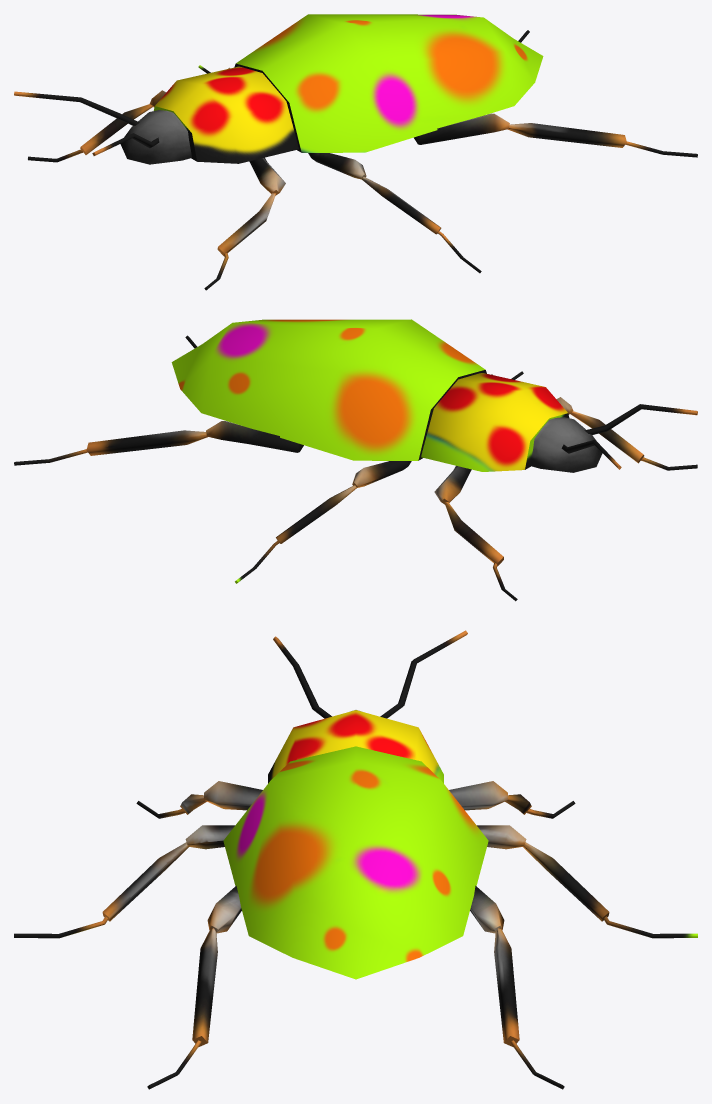
The picture shows the model from 3 angles, top to bottom: view 1: azimuth 30°, elevation 25°; view 2: azimuth 150°, elevation 25°; view 3: azimuth 270°, elevation 25°; orthographic projection. The views are drawn at different scales.
Parts seen in each view (by area): view 1: Bug_5; view 2: Bug_5; view 3: Bug_5.
Boxes of the visible parts, bbox=[...] form: Bug_5: bbox=[14, 14, 697, 290]; Bug_5: bbox=[14, 319, 697, 601]; Bug_5: bbox=[14, 630, 697, 1089].
Size of the model in its own units: 77.97 by 19.77 by 68.05.
